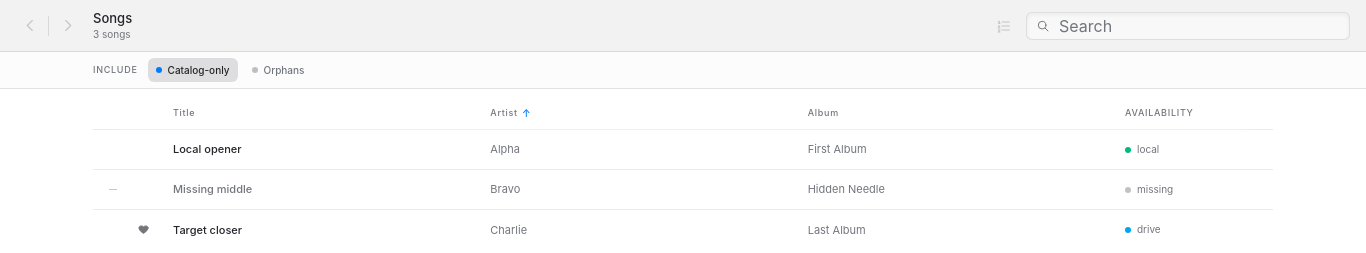
Test: SongsScreen list and playback contract › filters case-insensitively across album metadata
Expected: the text "Local opener" is shown, 161,130 -> 478,170
Type "nEeDlE" into the search field with placeholder "Search".
click(1188, 26); type("nEeDlE")  # box 1026,12 -> 1350,40
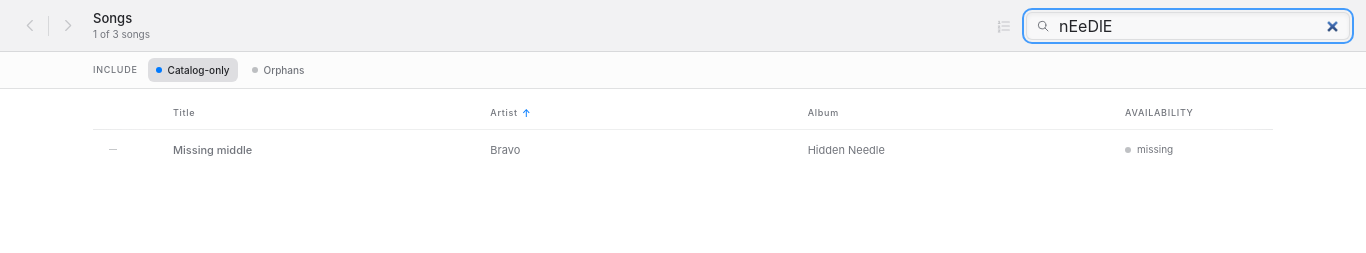
Expected: the text "Missing middle" is shown, 161,130 -> 478,170
Now the text "Local opener" is gone
Now the text "Target closer" is gone
